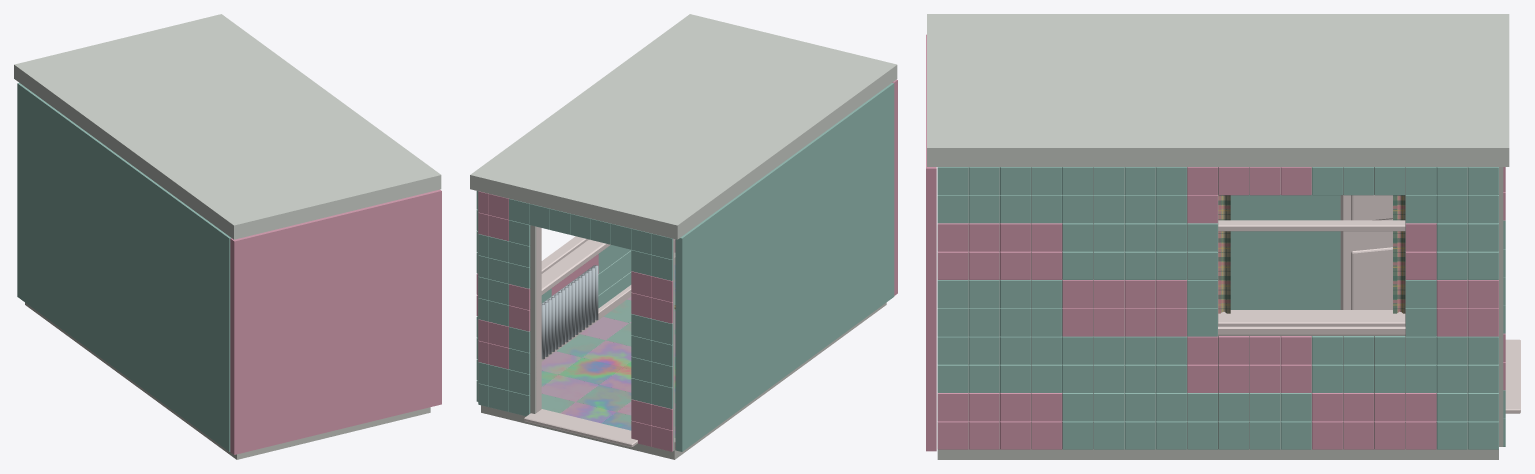
Rendered from pastel_room.glb.
3 views of the same model, side by side, from view 1: azimuth 30°, elevation 25°; view 2: azimuth 150°, elevation 25°; view 3: azimuth 270°, elevation 25° (orthographic). The views are drawn at different scales.
Parts seen in each view (by area): view 1: GEO-DREAM-ceiling, GEO-DREAM-left_wall, GEO-DREAM-back_wall, GEO-DREAM-subfloor; view 2: GEO-DREAM-ceiling, GEO-DREAM-left_wall, GEO-DREAM-threshold, GEO-DREAM-subfloor, GEO-DREAM-front_grout_right, GEO-DREAM-window_sill, GEO-DREAM-door_casing.001, GEO-DREAM-floor.033, GEO-DREAM-floor.034, GEO-DREAM-floor.025, GEO-DREAM-floor.032, GEO-DREAM-back_wall (+53 smaller); view 3: GEO-DREAM-ceiling, GEO-DREAM-left_wall, GEO-DREAM-subfloor, GEO-DREAM-back_wall, GEO-DREAM-window_sill, GEO-DREAM-door_panel.005, GEO-DREAM-window_mullion, GEO-DREAM-right_grout_back, GEO-DREAM-window_casing.002, GEO-DREAM-door_leaf, GEO-DREAM-curtain, GEO-DREAM-curtain.001 (+154 smaller).
Part boxes in pixels (<box>): GEO-DREAM-ceiling: <box>14,14,441,239</box>; GEO-DREAM-left_wall: <box>17,83,231,451</box>; GEO-DREAM-back_wall: <box>230,189,441,454</box>; GEO-DREAM-subfloor: <box>25,302,430,459</box>; GEO-DREAM-ceiling: <box>470,14,897,239</box>; GEO-DREAM-left_wall: <box>675,83,894,451</box>; GEO-DREAM-threshold: <box>524,409,637,447</box>; GEO-DREAM-subfloor: <box>481,302,886,459</box>; GEO-DREAM-front_grout_right: <box>530,225,536,413</box>; GEO-DREAM-window_sill: <box>541,239,610,294</box>; GEO-DREAM-door_casing.001: <box>536,226,541,412</box>; GEO-DREAM-floor.033: <box>559,357,622,384</box>; GEO-DREAM-floor.034: <box>541,375,598,401</box>; GEO-DREAM-floor.025: <box>576,385,631,411</box>; GEO-DREAM-floor.032: <box>582,340,631,367</box>; GEO-DREAM-back_wall: <box>892,79,897,295</box>; GEO-DREAM-ceiling: <box>927,14,1509,166</box>; GEO-DREAM-left_wall: <box>1230,194,1340,309</box>; GEO-DREAM-subfloor: <box>937,449,1498,459</box>; GEO-DREAM-back_wall: <box>926,34,936,451</box>; GEO-DREAM-window_sill: <box>1218,310,1405,335</box>; GEO-DREAM-door_panel.005: <box>1351,247,1392,309</box>; GEO-DREAM-window_mullion: <box>1218,220,1405,231</box>; GEO-DREAM-right_grout_back: <box>968,167,1218,448</box>; GEO-DREAM-window_casing.002: <box>1218,316,1405,326</box>; GEO-DREAM-door_leaf: <box>1340,194,1392,309</box>; GEO-DREAM-curtain: <box>1218,195,1230,313</box>; GEO-DREAM-curtain.001: <box>1393,195,1405,313</box>.
Bounding box in the file's own units: 3.06 × 3.36 × 5.72.
10 materials, 3 textured.
